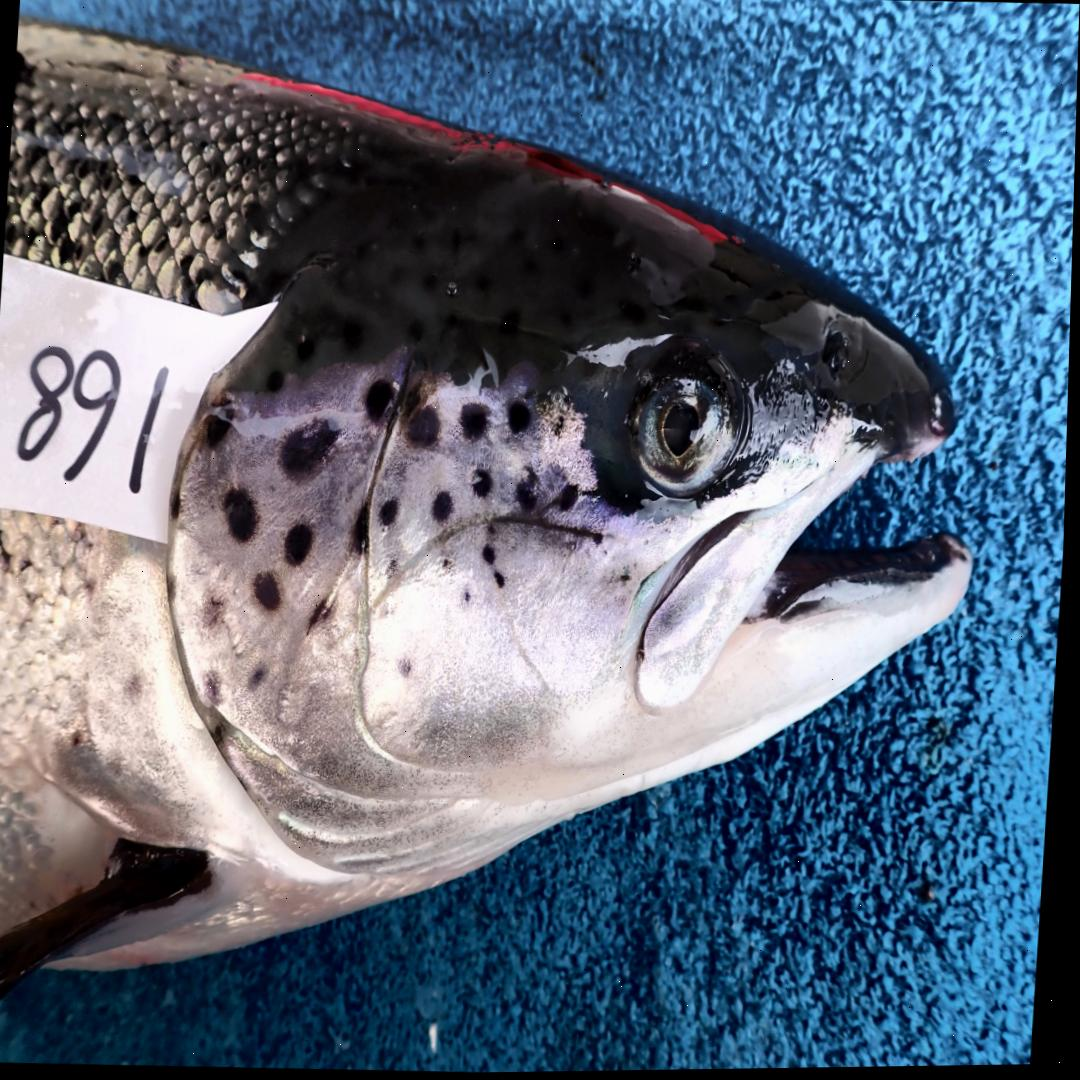spot: (281, 419, 340, 478), (225, 488, 260, 542), (366, 379, 396, 424), (408, 407, 440, 448), (403, 377, 426, 427), (287, 525, 314, 566), (517, 468, 541, 513), (256, 572, 284, 610), (309, 597, 337, 635), (462, 405, 489, 441), (353, 503, 371, 556), (203, 594, 228, 630), (207, 414, 232, 446), (433, 493, 455, 523), (509, 403, 531, 433), (206, 671, 224, 704), (559, 484, 580, 511), (381, 498, 400, 527), (474, 470, 494, 497), (250, 666, 269, 690), (268, 371, 285, 392), (483, 544, 497, 565), (401, 658, 415, 678), (172, 491, 182, 519), (388, 560, 401, 578), (554, 417, 566, 436), (593, 532, 606, 547), (622, 565, 632, 582), (497, 571, 506, 589), (445, 558, 453, 568), (467, 591, 473, 602)
